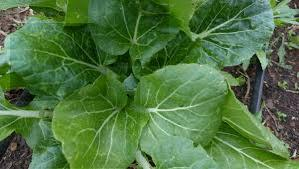Healthy-Pechay: (13, 4, 271, 158)
